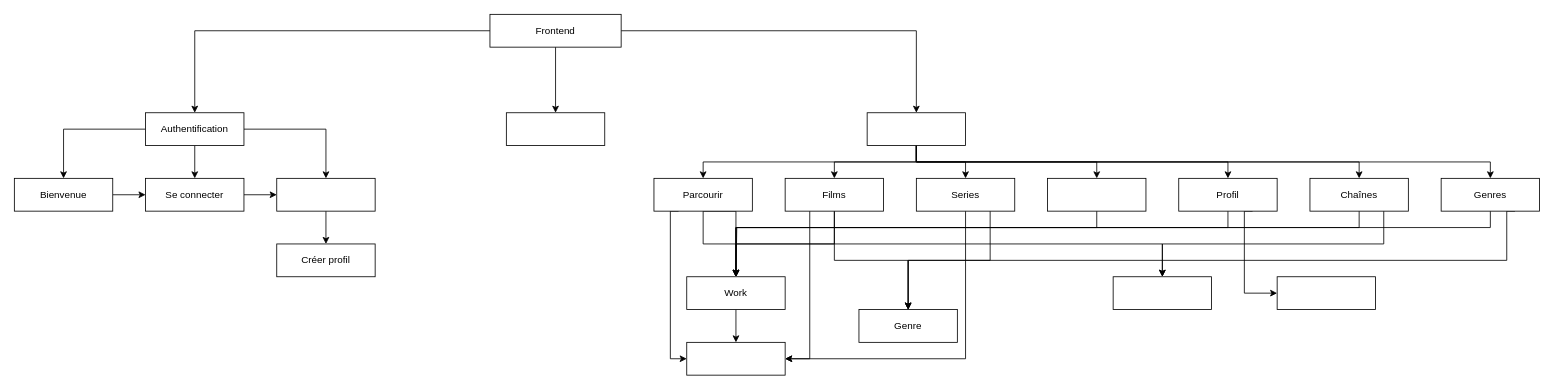
Some shapes in this 1554 by 390 pixel diagram are drawn without their labels. The shapes that lost their labels are listed below. From the top down, each one's centre as x and y in pixels, then its label:
point 555,129: Choisir profil
point 916,129: Application
point 325,194: S'inscrire
point 1096,194: Recherche
point 1162,293: Chaîne
point 1326,293: S'abonner
point 735,358: Regarder
